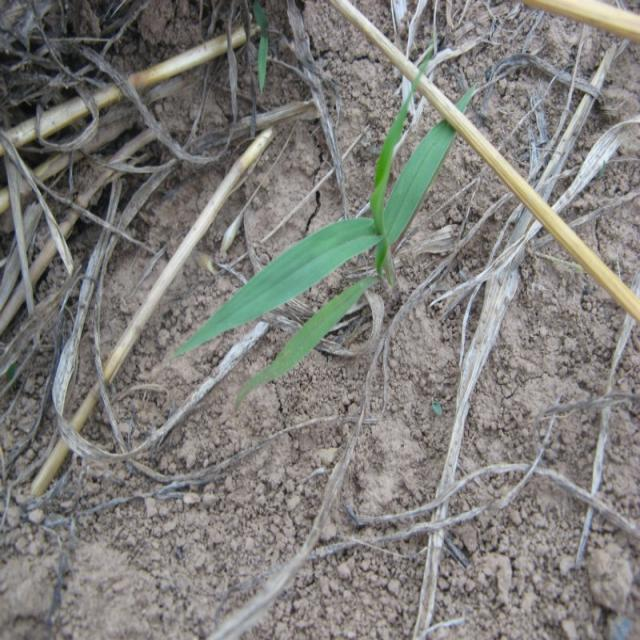bg: (172, 58, 478, 378)
